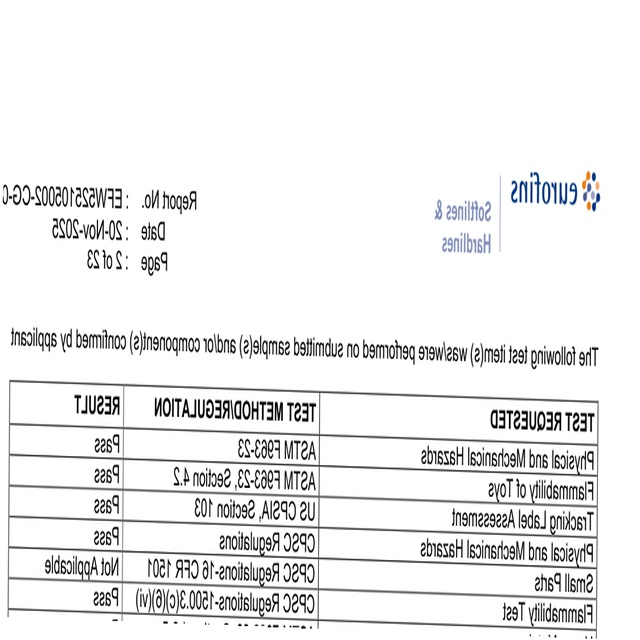eurofins: (506, 167, 602, 215)
